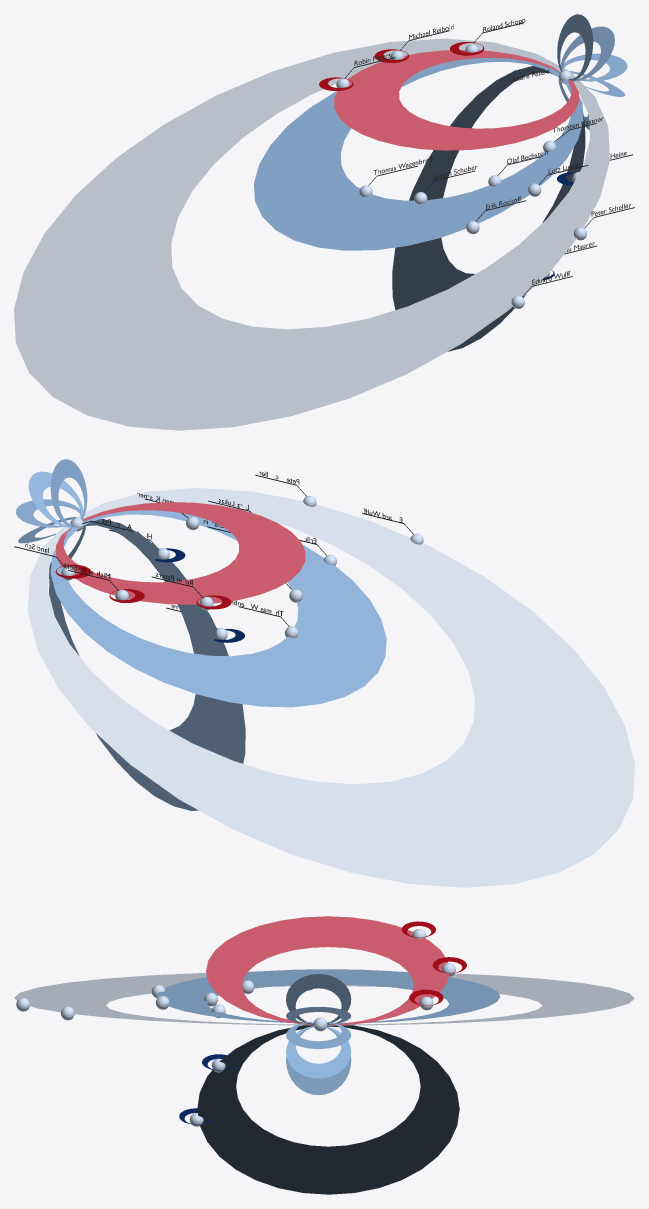
File: orbit_for_fiber1.glb
3 views of the same model, one above another, from view 1: azimuth 30°, elevation 25°; view 2: azimuth 150°, elevation 25°; view 3: azimuth 270°, elevation 25° (orthographic). The views are drawn at different scales.
Parts seen in each view (by area): view 1: Circle.003, Circle.001, Circle, Circle.002, Circle.008, Circle.006, Circle.004; view 2: Circle.003, Circle.001, Circle, Circle.002, Circle.008, Circle.006, Circle.004; view 3: Circle.002, Circle, Circle.003, Circle.001, Circle.005, Circle.008, Circle.007, Circle.004, Circle.006.
Boxes of the visible parts, x1=… form: Circle.003: x1=14, y1=38, x2=609, y2=430; Circle.001: x1=254, y1=57, x2=583, y2=250; Circle: x1=334, y1=50, x2=578, y2=150; Circle.002: x1=392, y1=66, x2=585, y2=351; Circle.008: x1=557, y1=14, x2=593, y2=80; Circle.006: x1=560, y1=26, x2=614, y2=81; Circle.004: x1=561, y1=53, x2=627, y2=81; Circle.003: x1=27, y1=488, x2=634, y2=887; Circle.001: x1=50, y1=510, x2=386, y2=707; Circle: x1=56, y1=502, x2=305, y2=604; Circle.002: x1=49, y1=519, x2=245, y2=810; Circle.008: x1=50, y1=459, x2=87, y2=526; Circle.006: x1=28, y1=471, x2=83, y2=527; Circle.004: x1=16, y1=499, x2=82, y2=527; Circle.002: x1=197, y1=1023, x2=459, y2=1194; Circle: x1=206, y1=916, x2=449, y2=1024; Circle.003: x1=14, y1=971, x2=634, y2=1025; Circle.001: x1=156, y1=969, x2=500, y2=1023; Circle.005: x1=286, y1=1026, x2=351, y2=1078; Circle.008: x1=286, y1=974, x2=351, y2=1024; Circle.007: x1=286, y1=1027, x2=351, y2=1094; Circle.004: x1=286, y1=1021, x2=351, y2=1048; Circle.006: x1=286, y1=1007, x2=350, y2=1024.
Bounding box in the file's own units: 27.72 × 13.66 × 25.31.
